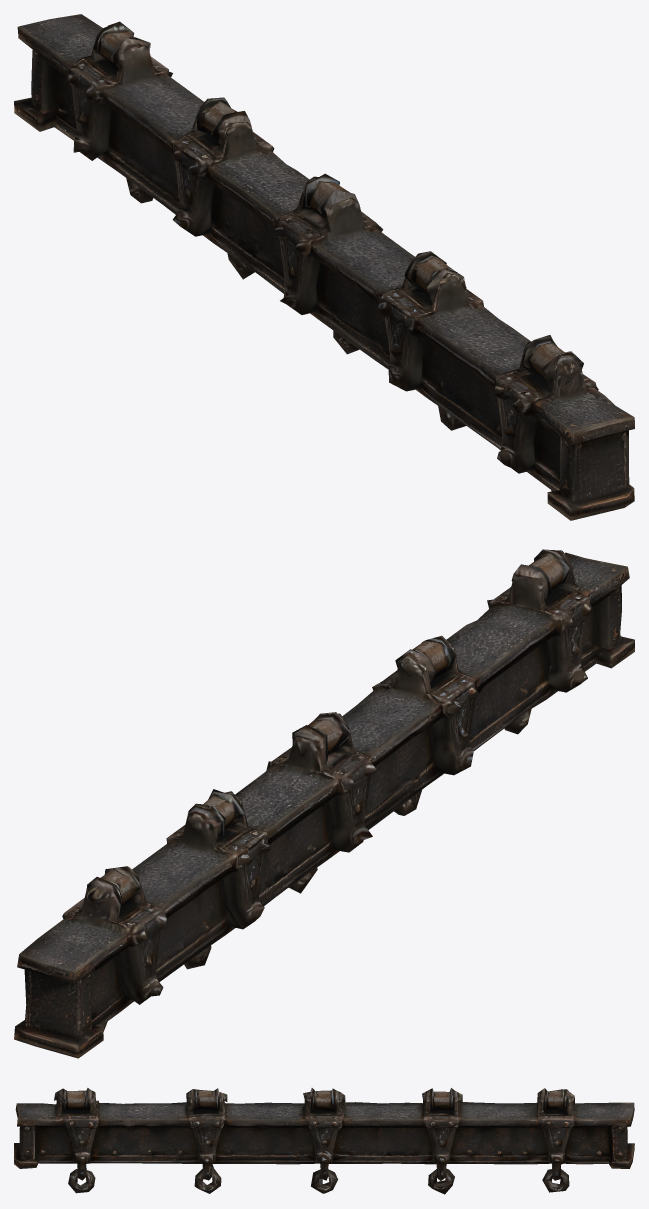
File: raw_track.glb
3 renders of one model, top to bottom at view 1: azimuth 30°, elevation 25°; view 2: azimuth 150°, elevation 25°; view 3: azimuth 270°, elevation 25°, orthographic. The views are drawn at different scales.
Parts seen in each view (by area): view 1: tripo_node_8ed90bfd-6699-4a2d-9fdb-bb500d3a68c4; view 2: tripo_node_8ed90bfd-6699-4a2d-9fdb-bb500d3a68c4; view 3: tripo_node_8ed90bfd-6699-4a2d-9fdb-bb500d3a68c4.
Part boxes in pixels (left/top/right/bottom): tripo_node_8ed90bfd-6699-4a2d-9fdb-bb500d3a68c4: left=14, top=14, right=634, bottom=520; tripo_node_8ed90bfd-6699-4a2d-9fdb-bb500d3a68c4: left=14, top=549, right=634, bottom=1058; tripo_node_8ed90bfd-6699-4a2d-9fdb-bb500d3a68c4: left=14, top=1088, right=634, bottom=1194.
Size of the model in its own units: 0.1034 by 0.1771 by 1.
1 material, 1 textured.
